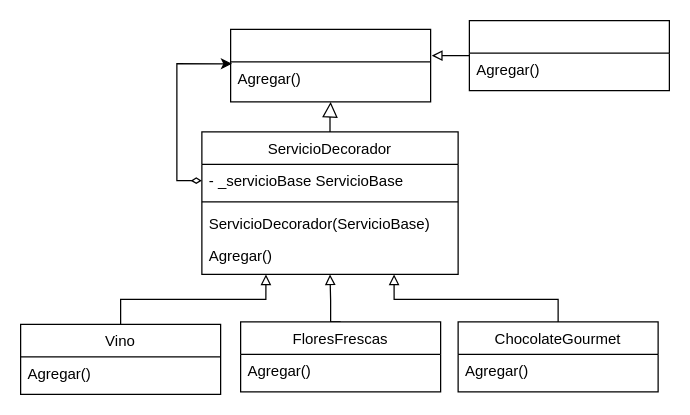
Image size: 690x415. Some labels were removed from this diagram. Here are the shapes that lost their labels. From the top down, the box of each, then its label:
(229, 28, 431, 102): ServicioBase
(468, 19, 669, 91): Basico
